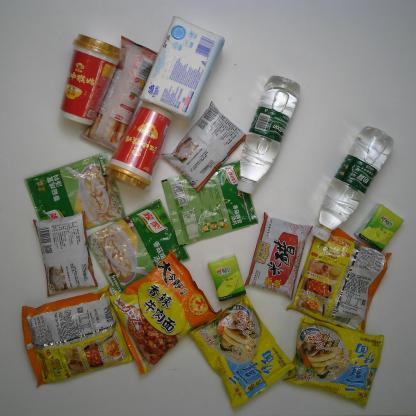Dessert: (84, 34, 157, 154)
Drink: (311, 127, 395, 242), (233, 75, 301, 198)
Instant Drink: (106, 100, 174, 193), (58, 33, 122, 125)
Instant Noodles: (108, 247, 221, 376), (185, 296, 295, 409), (287, 220, 391, 334), (21, 286, 135, 387), (286, 314, 385, 408)
Seasoner: (83, 196, 192, 296), (160, 161, 260, 246), (24, 152, 126, 231), (164, 98, 247, 190), (245, 208, 311, 301), (32, 211, 99, 297)
Tissue: (140, 16, 226, 116), (355, 201, 404, 251), (206, 254, 247, 300)
